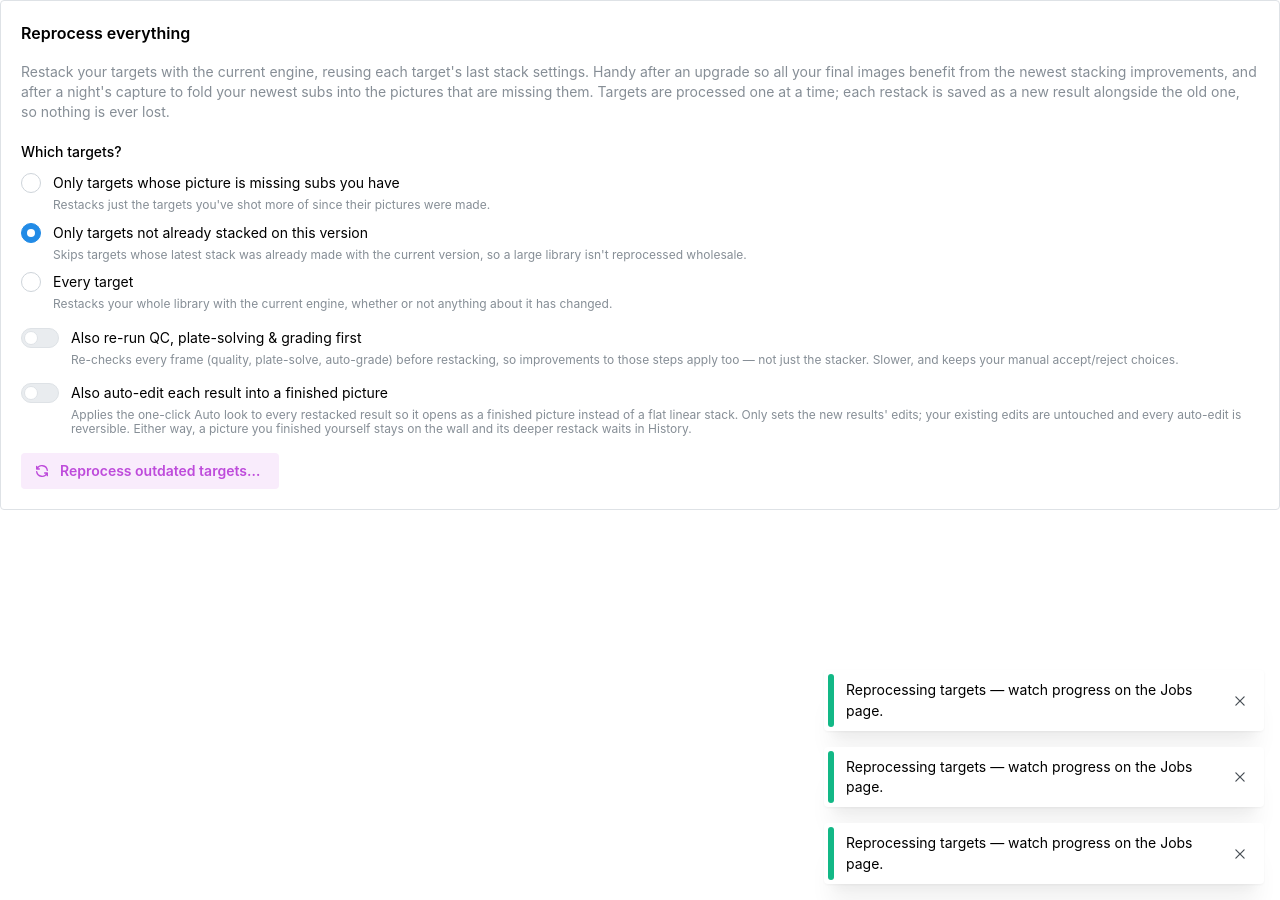
it: Maintenance — reprocess everything › surfaces the already-running case
Click the button "Reprocess outdated targets…" at x=150, y=471, box [21,453,279,489]
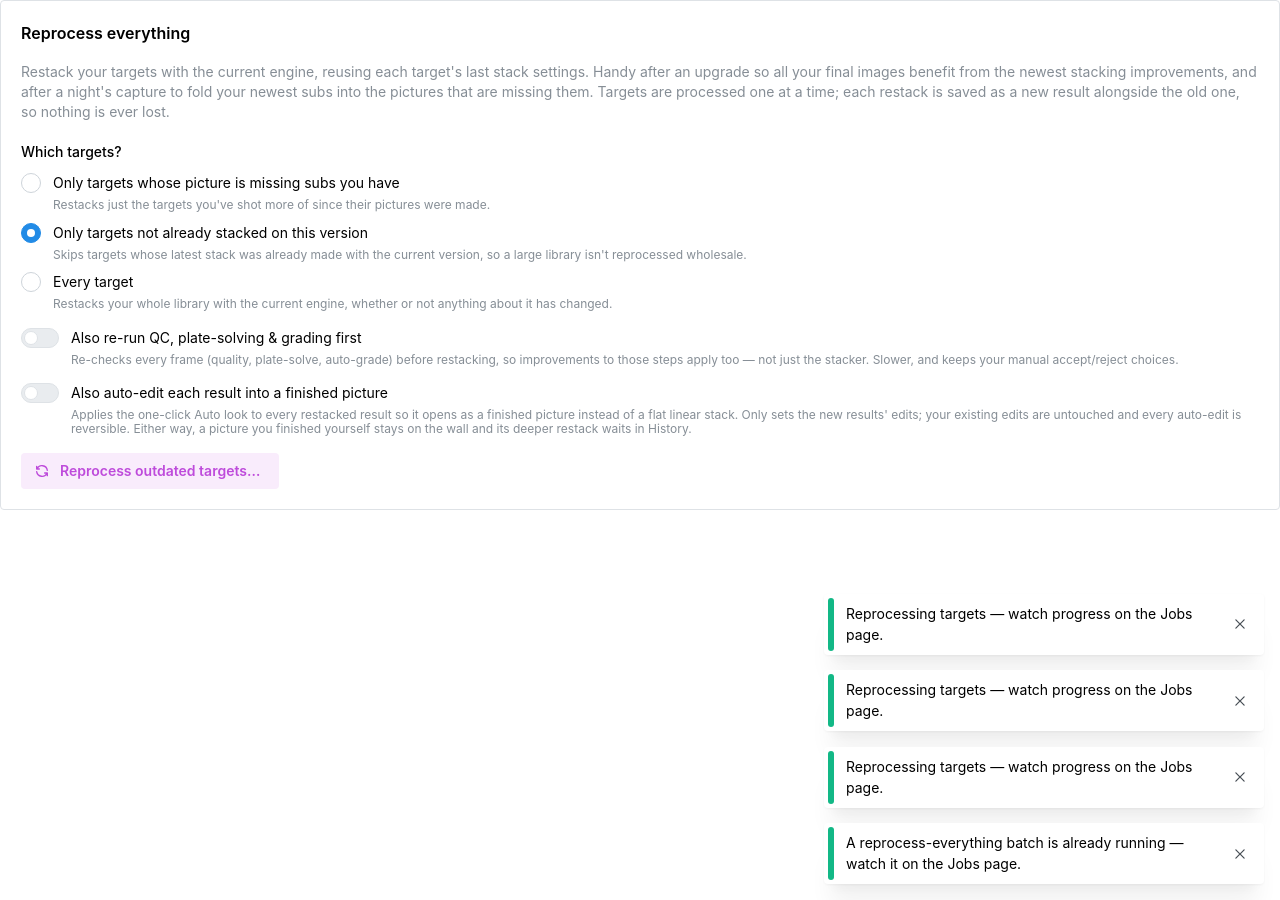
Check: the text "already running" is shown, box [846,834,1184,872]
